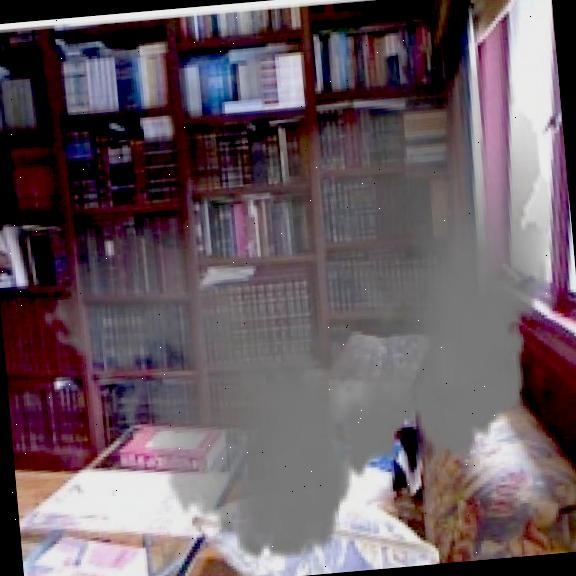smoke: (18, 23, 576, 576)
